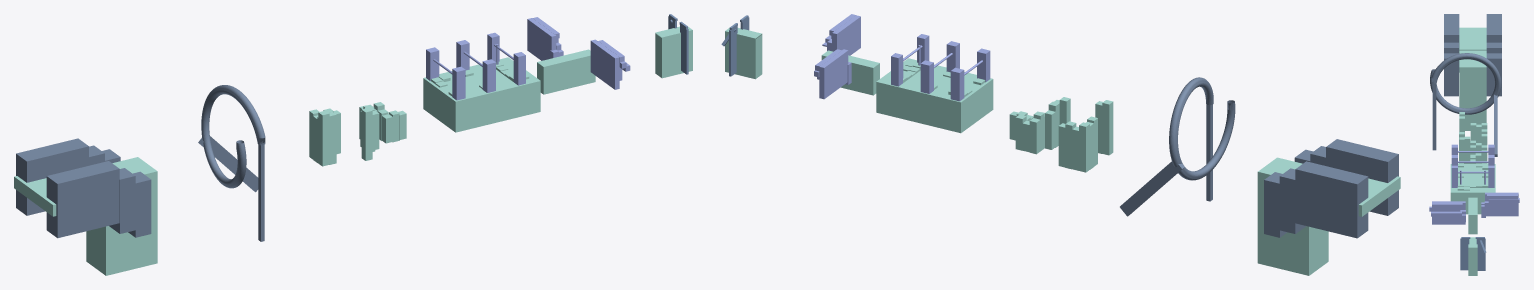
File: level1 (2).fbx
3 renders of one model, left to right at view 1: azimuth 30°, elevation 25°; view 2: azimuth 150°, elevation 25°; view 3: azimuth 270°, elevation 25°, orthographic. The views are drawn at different scales.
Parts seen in each view (by area): view 1: Cube.024, Cube.070, Cube.068, Cube.071, Cylinder, Floor.001, Floor, Cube.074, Cube.075, Cube.042, Cube.041, Cube.069 (+9 smaller); view 2: Cube.024, Cube.071, Cube.068, Cube.070, Cylinder, Floor, Cube.072, Floor.001, Cube.041, Cube.073, Cube.014, Cube.042 (+9 smaller); view 3: Cube.068, Cylinder, Cube.024, Cube.069, Cube.075, Cube.070, Cube.073, Cube.071, Floor.001, Floor, Cube.013, Cube.041 (+28 smaller).
Boxes of the visible parts, x1=… form: Cube.024: x1=423, y1=57, x2=540, y2=132; Cube.070: x1=46, y1=161, x2=119, y2=238; Cube.068: x1=86, y1=157, x2=157, y2=275; Cube.071: x1=16, y1=138, x2=88, y2=215; Cylinder: x1=201, y1=85, x2=265, y2=188; Floor.001: x1=537, y1=49, x2=595, y2=94; Floor: x1=655, y1=26, x2=692, y2=78; Cube.074: x1=109, y1=168, x2=135, y2=233; Cube.075: x1=128, y1=171, x2=151, y2=237; Cube.042: x1=590, y1=39, x2=619, y2=89; Cube.041: x1=527, y1=18, x2=556, y2=60; Cube.069: x1=14, y1=176, x2=56, y2=216; Cube.024: x1=876, y1=58, x2=993, y2=133; Cube.071: x1=1295, y1=161, x2=1368, y2=238; Cube.068: x1=1257, y1=157, x2=1328, y2=275; Cube.070: x1=1326, y1=139, x2=1398, y2=215; Cylinder: x1=1169, y1=77, x2=1235, y2=180; Floor: x1=725, y1=28, x2=762, y2=79; Cube.072: x1=1279, y1=168, x2=1305, y2=233; Floor.001: x1=821, y1=50, x2=879, y2=95; Cube.041: x1=819, y1=49, x2=848, y2=99; Cube.073: x1=1264, y1=172, x2=1286, y2=237; Cube.014: x1=1120, y1=161, x2=1184, y2=216; Cube.042: x1=832, y1=15, x2=860, y2=55; Cube.068: x1=1459, y1=50, x2=1486, y2=130; Cylinder: x1=1430, y1=53, x2=1501, y2=114; Cube.024: x1=1450, y1=164, x2=1495, y2=214; Cube.069: x1=1459, y1=27, x2=1486, y2=50; Cube.075: x1=1444, y1=53, x2=1458, y2=96; Cube.070: x1=1444, y1=14, x2=1459, y2=72; Cube.073: x1=1486, y1=53, x2=1501, y2=96; Cube.071: x1=1486, y1=14, x2=1501, y2=42; Floor.001: x1=1468, y1=197, x2=1477, y2=234; Floor: x1=1468, y1=237, x2=1477, y2=275; Cube.013: x1=1432, y1=83, x2=1436, y2=150; Cube.041: x1=1485, y1=192, x2=1518, y2=216.
Bounding box in the file's own units: 64727 × 14325 × 11107.
